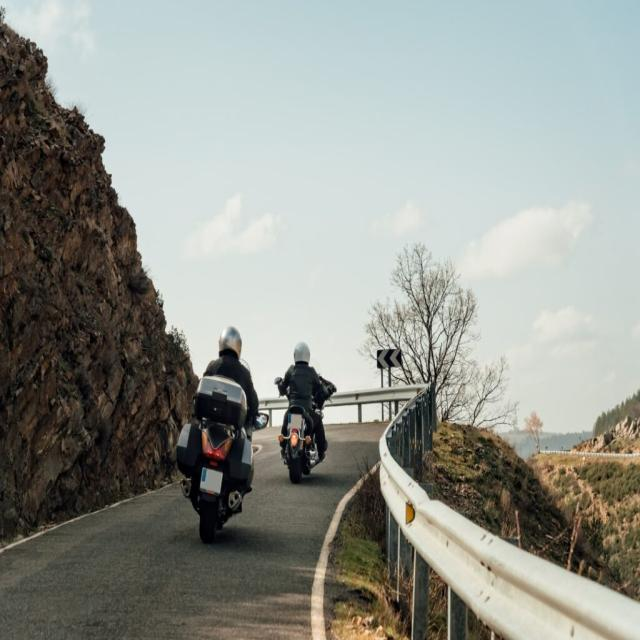MOTORCYCLE: (191, 373, 254, 547), (282, 373, 327, 480)
